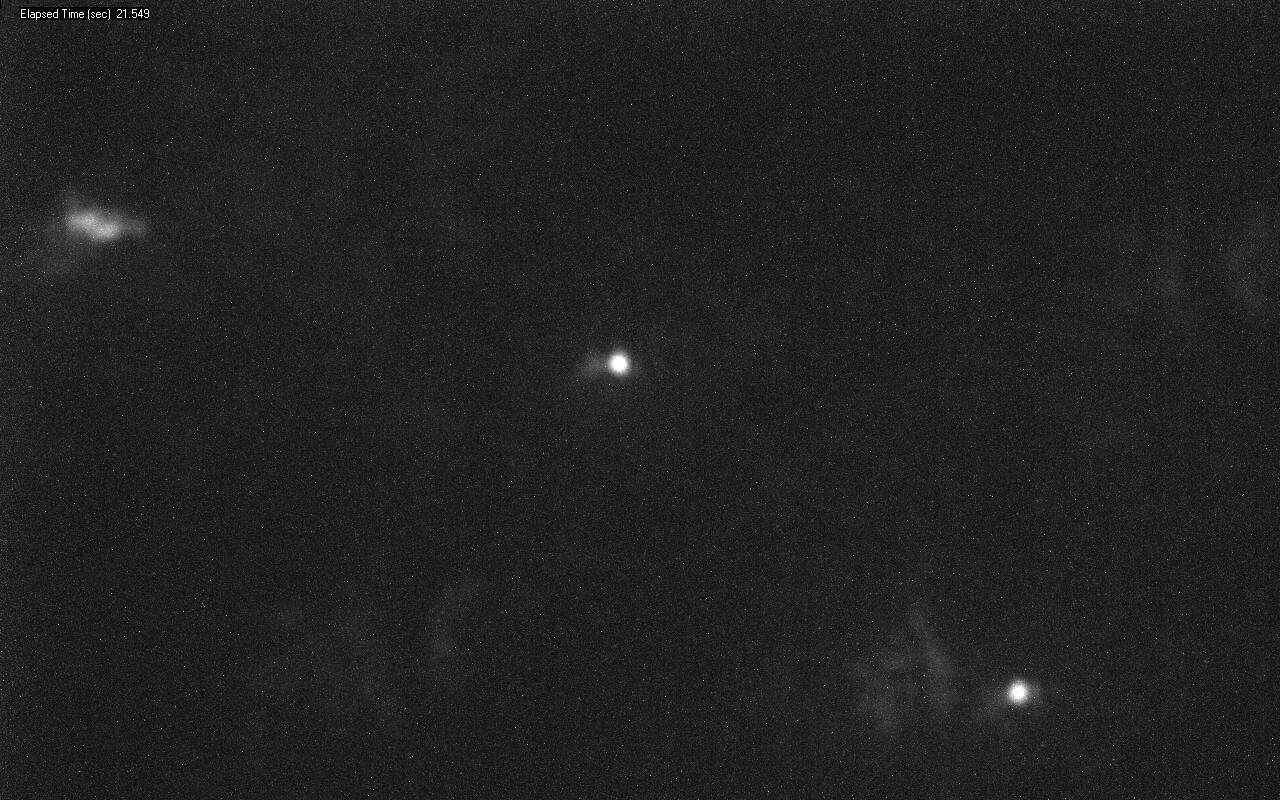Bead: (1007, 680, 1029, 703), (609, 352, 629, 374)
